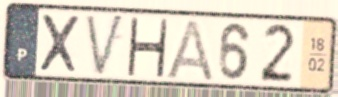2: (260, 21, 298, 85)
6: (216, 21, 253, 82)
A: (161, 17, 217, 84)
H: (124, 15, 171, 80)
V: (83, 12, 127, 80)
X: (37, 11, 82, 75)
